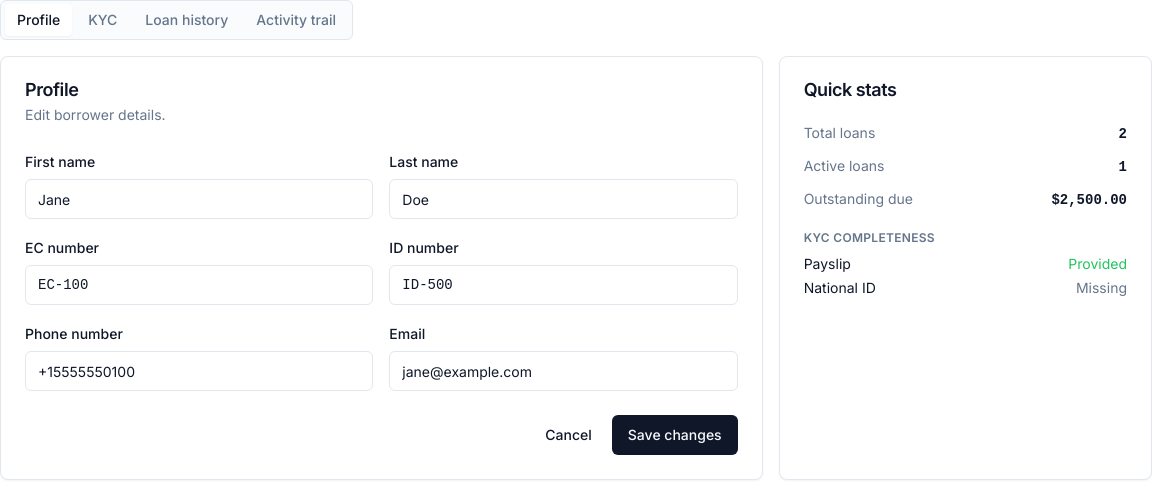
Test case: BorrowerTabs › opens the Loan history tab and renders the loan reference
Click the tab "Loan history": (187, 20) [133, 4, 240, 36]
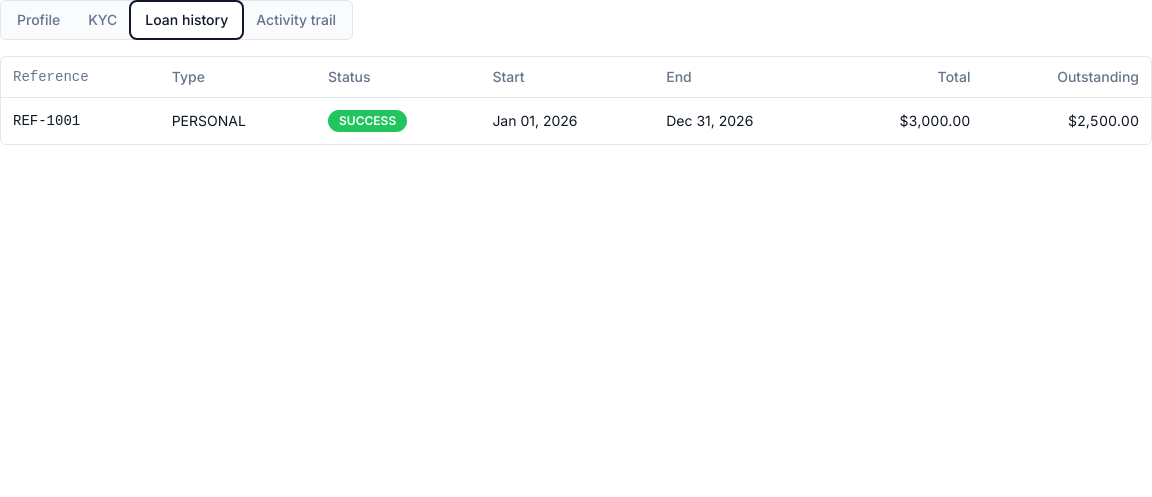
Expected: the link "REF-1001" is shown, [13, 112, 80, 128]
